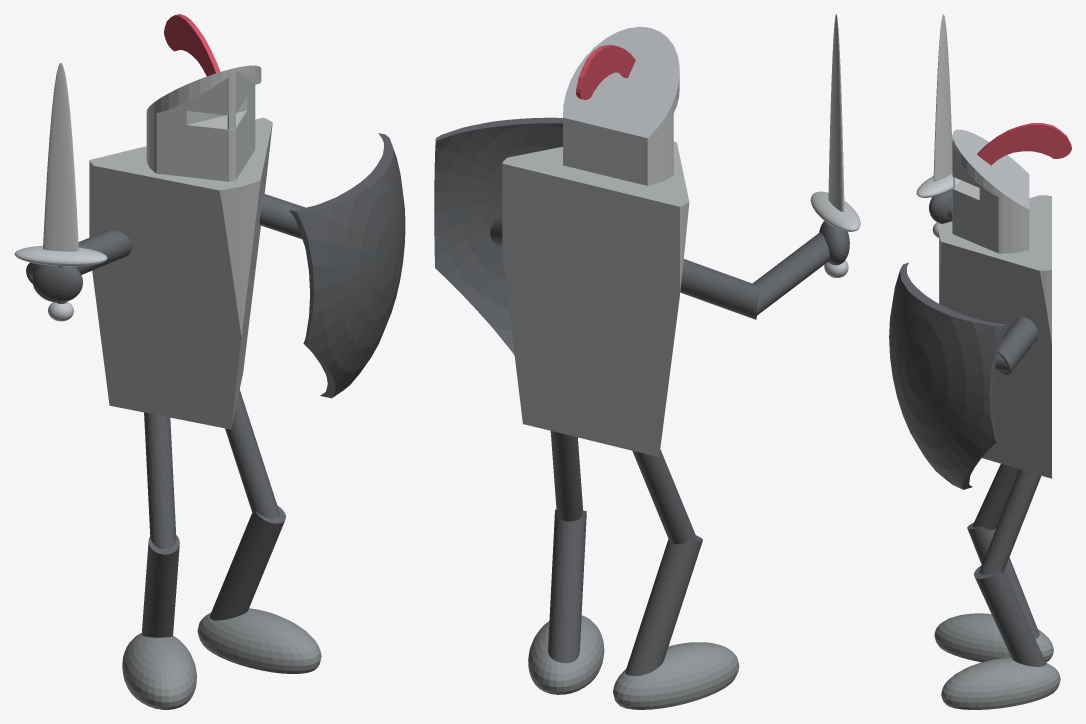
Rendered from character1.glb.
3 renders of one model, left to right at view 1: azimuth 30°, elevation 25°; view 2: azimuth 150°, elevation 25°; view 3: azimuth 270°, elevation 25°, orthographic. The views are drawn at different scales.
Visible parts, largest first — view 1: Mesh_Mesh_head_geo.001_lambert2SG.001; view 2: Mesh_Mesh_head_geo.001_lambert2SG.001; view 3: Mesh_Mesh_head_geo.001_lambert2SG.001.
Boxes of the visible parts, x1,y1,x2,y2 form: Mesh_Mesh_head_geo.001_lambert2SG.001: [14, 14, 405, 709]; Mesh_Mesh_head_geo.001_lambert2SG.001: [434, 14, 860, 709]; Mesh_Mesh_head_geo.001_lambert2SG.001: [889, 14, 1071, 709].
Bounding box in the file's own units: 44.39 × 71.01 × 20.19.
